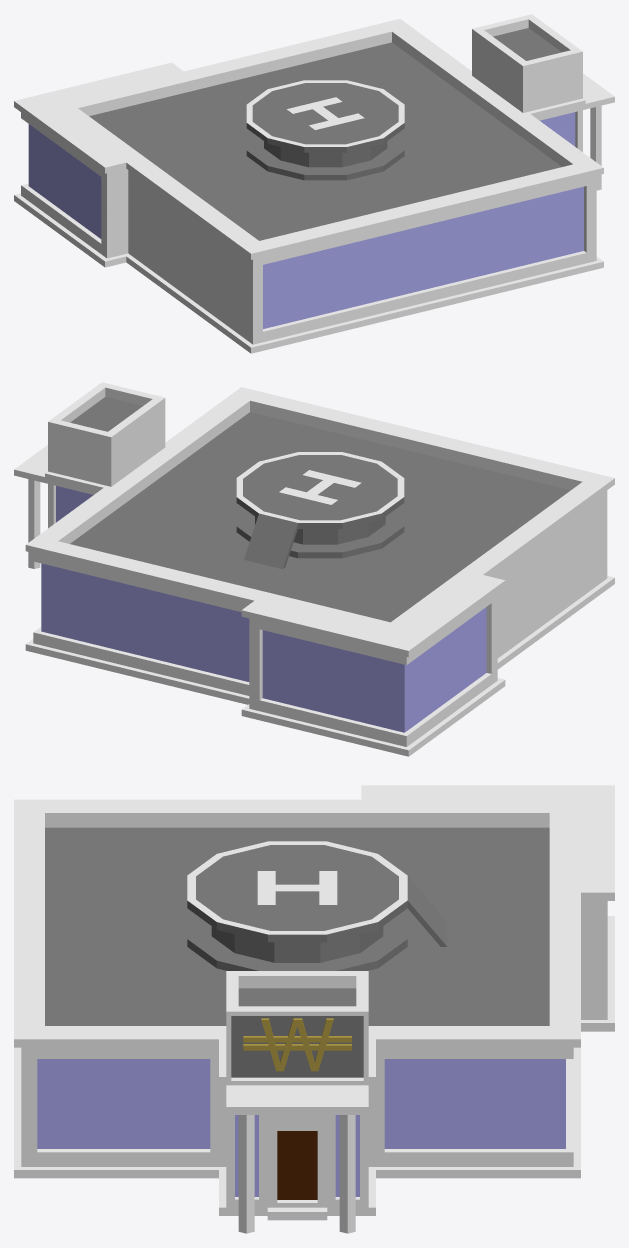
File: Wank.FBX
3 views of the same model, one above another, from view 1: azimuth 30°, elevation 25°; view 2: azimuth 150°, elevation 25°; view 3: azimuth 270°, elevation 25° (orthographic). The views are drawn at different scales.
Visible parts, largest first — view 1: Bank; view 2: Bank; view 3: Bank.
Part boxes in pixels (left/top/right/bottom): Bank: left=14, top=14, right=614, bottom=353; Bank: left=14, top=382, right=614, bottom=756; Bank: left=14, top=785, right=614, bottom=1233.
Size of the model in its own units: 951 by 289 by 771.
Materials: 1 (1 with a texture image).
